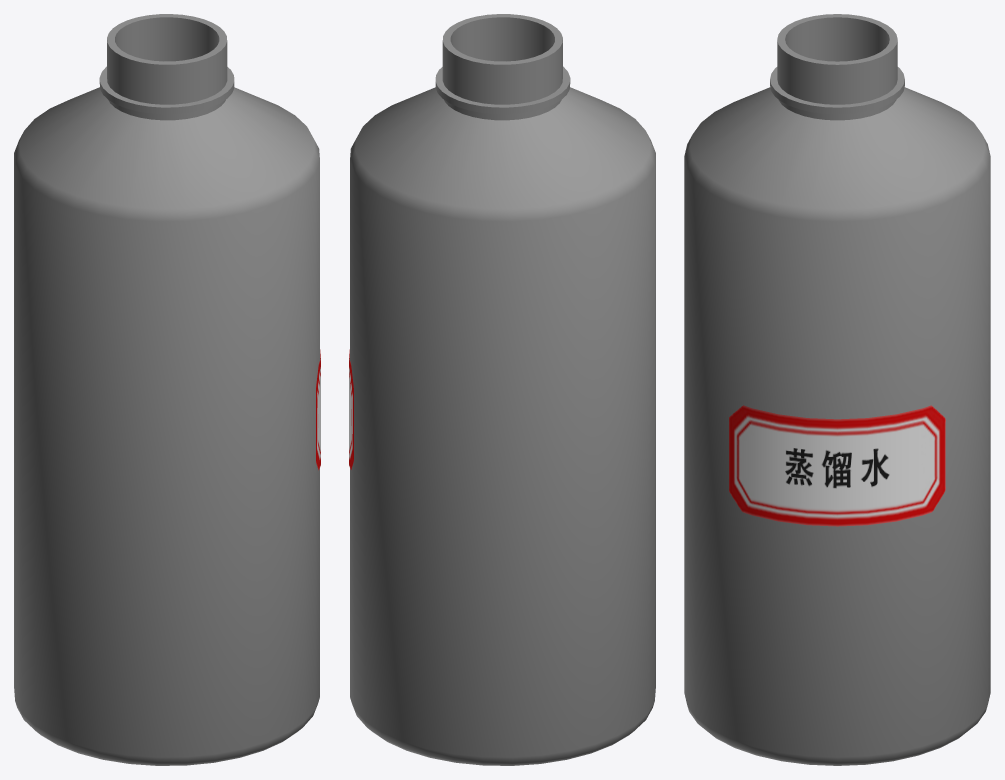
File: SM_蒸馏水瓶身_001.fbx
The picture shows the model from 3 angles, left to right: view 1: azimuth 30°, elevation 25°; view 2: azimuth 150°, elevation 25°; view 3: azimuth 270°, elevation 25°; orthographic projection.
Parts seen in each view (by area): view 1: SM_蒸馏水瓶身_001; view 2: SM_蒸馏水瓶身_001; view 3: SM_蒸馏水瓶身_001.
Boxes of the visible parts, box(x1,y1,x2,y2) form: SM_蒸馏水瓶身_001: box(14, 14, 320, 765); SM_蒸馏水瓶身_001: box(349, 14, 655, 765); SM_蒸馏水瓶身_001: box(684, 14, 990, 765).
Bounding box in the file's own units: 0.0802 × 0.192 × 0.08.
